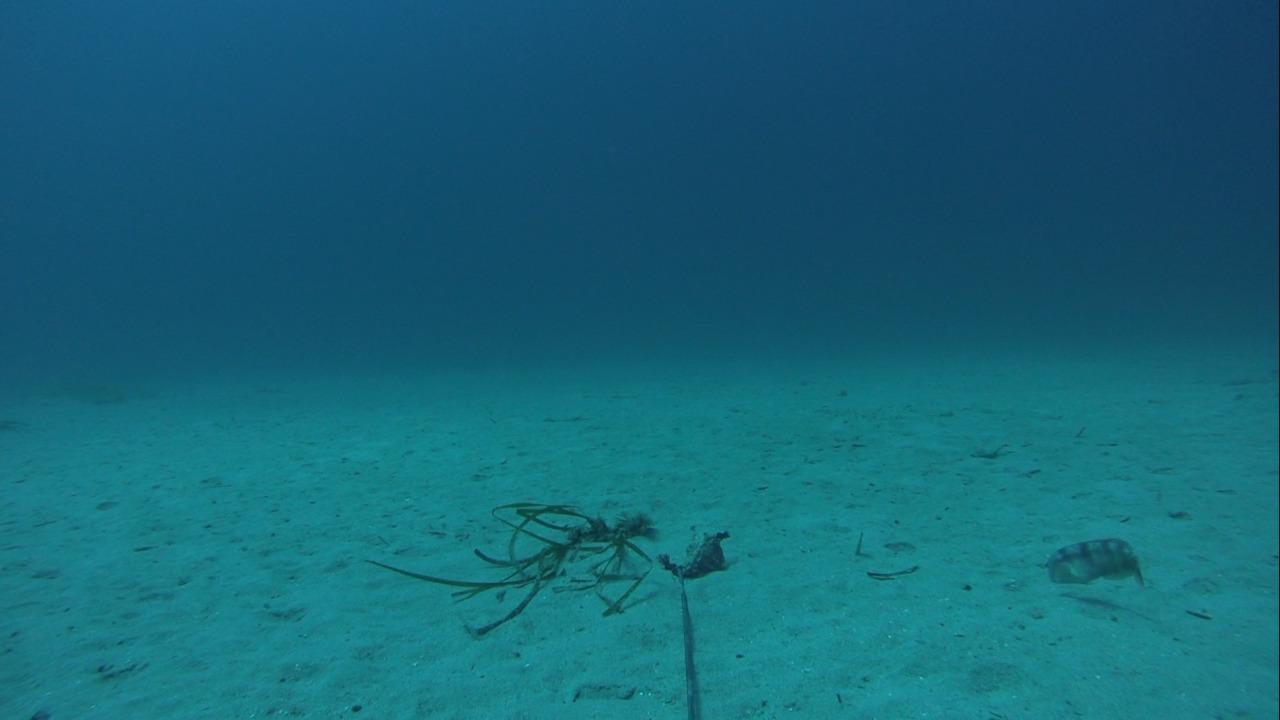raor: (1047, 536, 1143, 589)
